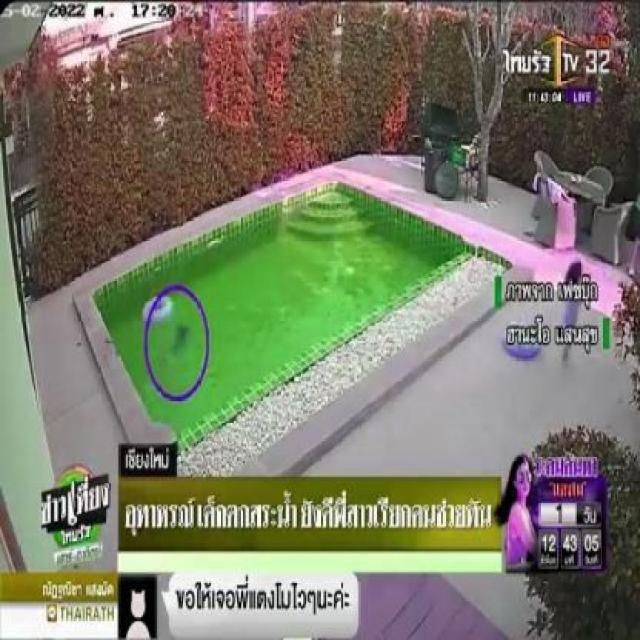drowning: (161, 320, 193, 385)
